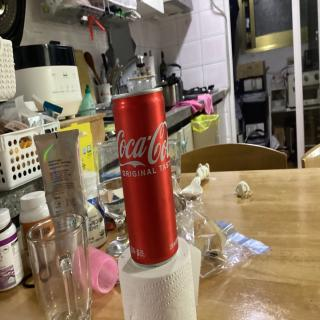cocacola: (111, 84, 185, 266)
